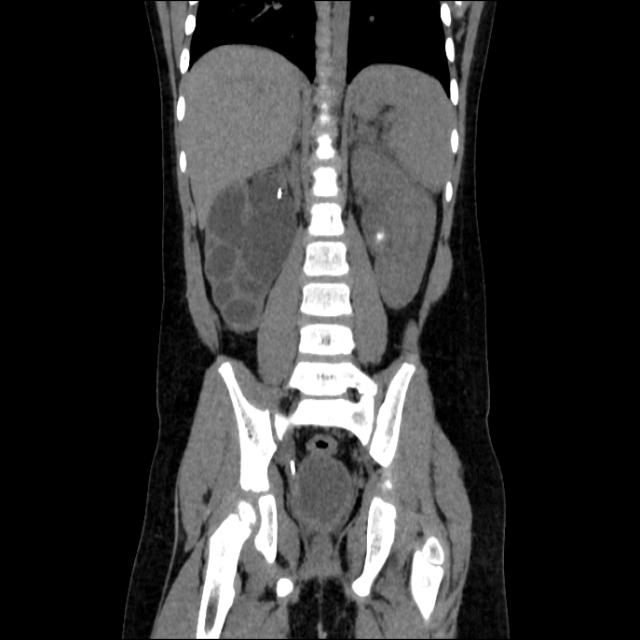kidney: (199, 165, 303, 333), (351, 143, 438, 308)
stone: (374, 222, 387, 247), (276, 183, 286, 203)
